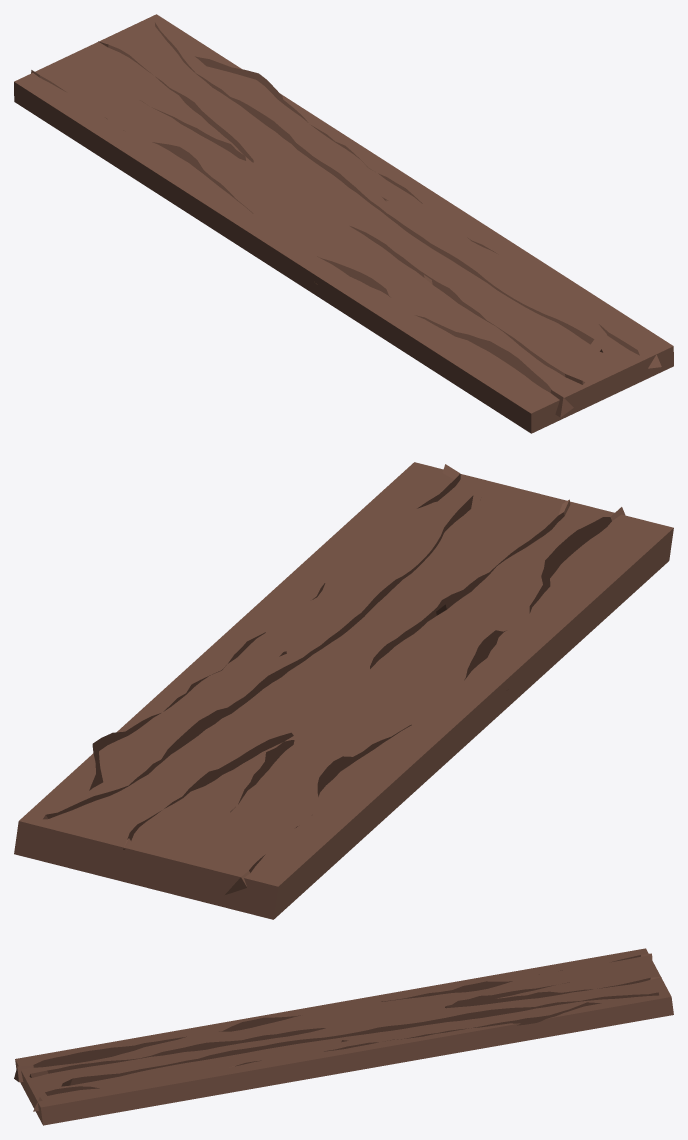
Rendered from Wooden plank.glb.
3 views of the same model, one above another, from view 1: azimuth 30°, elevation 25°; view 2: azimuth 150°, elevation 25°; view 3: azimuth 270°, elevation 25° (orthographic). The views are drawn at different scales.
Parts seen in each view (by area): view 1: Node; view 2: Node; view 3: Node.
Part boxes in pixels (x1,y1,x2,y2): Node: [14, 14, 673, 433]; Node: [14, 462, 673, 919]; Node: [14, 948, 673, 1125].
Bounding box in the file's own units: 0.1382 × 0.0534 × 0.343.
